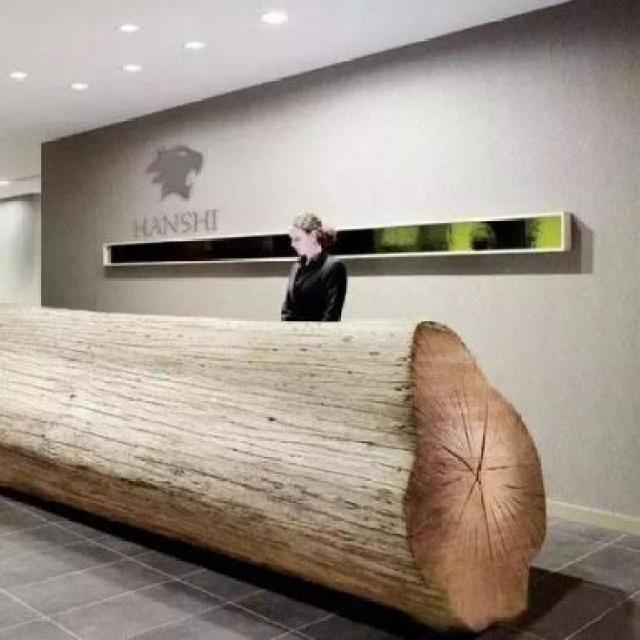frontdesk: (0, 283, 560, 640)
